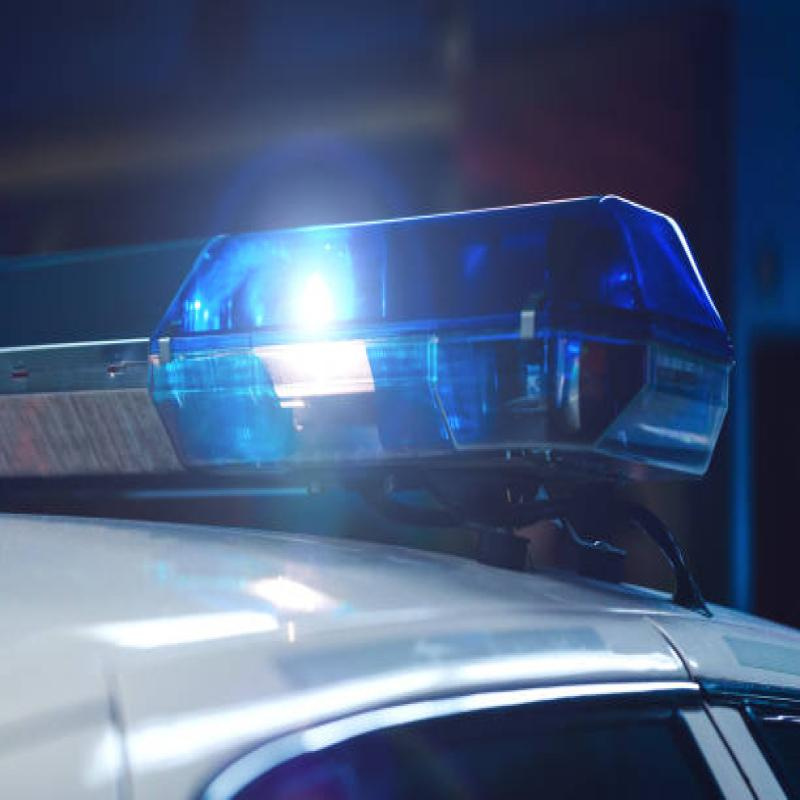AmbulanceSiren: (0, 189, 724, 540)
